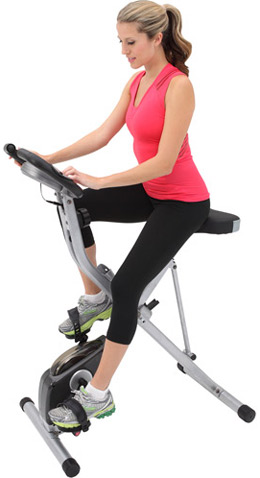gym_bike: (9, 131, 246, 468)
